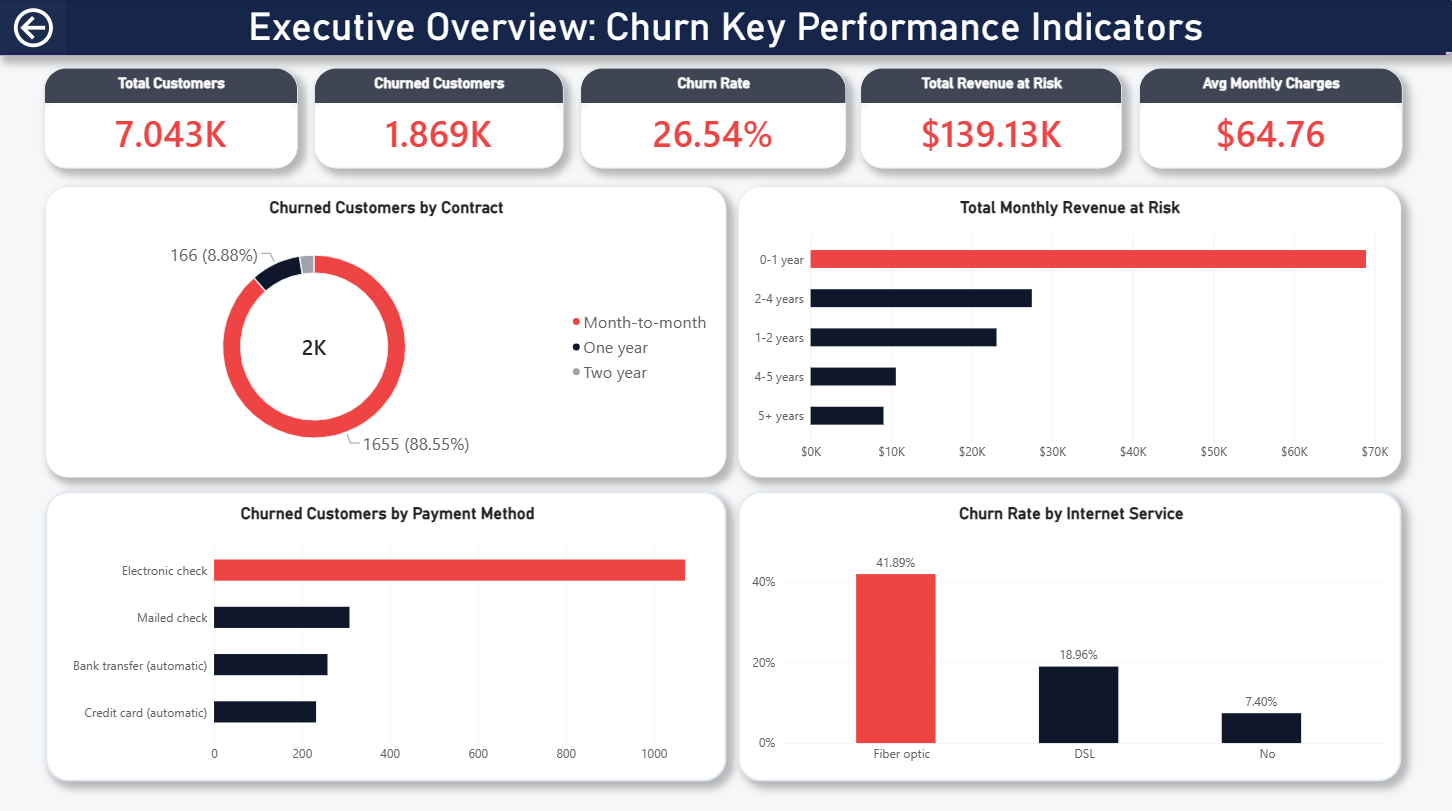

This screenshot's page, from the dashboard's own definition file:
{"tool":"powerbi","page":{"name":"Executive Overview","canvas":[1920,1080],"ordinal":1},"visuals":[{"type":"cardVisual","title":"Total Customers","fields":{"Data":["Measures Table.Total Customers"]},"box":[61.8,90.8,334.3,132.6],"z":0},{"type":"cardVisual","title":"Churned Customers","fields":{"Data":["Measures Table.Churned Customers"]},"box":[417.9,90.8,328.8,132.6],"z":1000},{"type":"cardVisual","title":"Churn Rate","fields":{"Data":["Measures Table.Churn Rate"]},"box":[768.5,90.8,350.6,132.6],"z":2000},{"type":"cardVisual","title":"Total Revenue at Risk","fields":{"Data":["Measures Table.Total MR at risk"]},"box":[1137.3,90.8,345.2,132.6],"z":3000},{"type":"donutChart","title":"Churned Customers by Contract","fields":{"Category":["public executive_churn_summary.contract"],"Y":["Measures Table.Churned Customers"]},"box":[62.5,248.2,898.2,383.9],"z":4000},{"type":"textbox","title":"Executive Overview: Churn Key Performance Indicators","box":[0,0,1919.7,75],"z":4500},{"type":"actionButton","box":[0,0,91.1,75],"z":5000},{"type":"clusteredBarChart","title":"Total Monthly Revenue at Risk","fields":{"Category":["public executive_churn_summary.tenure_bins_cohort"],"Y":["Measures Table.Total MR at risk"]},"box":[976.8,248.2,875,383.9],"z":6000},{"type":"clusteredBarChart","title":"Churned Customers by Payment Method","fields":{"Category":["public executive_churn_summary.paymentmethod"],"Y":["Measures Table.Churned Customers"]},"box":[62.5,650,898.2,382.1],"z":7000},{"type":"cardVisual","title":"Avg Monthly Charges","fields":{"Data":["Measures Table.Avg Monthly Charges"]},"box":[1506.1,90.8,347,132.6],"z":8000},{"type":"clusteredColumnChart","title":"Churn Rate by Internet Service","fields":{"Category":["public executive_churn_summary.internetservice"],"Y":["Measures Table.Churn Rate"]},"box":[976.8,650,875,382.1],"z":9000}]}

Visuals, with their boxes in screenshot pixels (x1, y1, x2, y2), scaled from the page's 1920x1080 canvas onto the 1452x811 screenshot:
"Total Customers" cardVisual: (left=47, top=68, right=300, bottom=168)
"Churned Customers" cardVisual: (left=316, top=68, right=565, bottom=168)
"Churn Rate" cardVisual: (left=581, top=68, right=846, bottom=168)
"Total Revenue at Risk" cardVisual: (left=860, top=68, right=1121, bottom=168)
"Churned Customers by Contract" donutChart: (left=47, top=186, right=727, bottom=475)
"Executive Overview: Churn Key Performance Indicators" textbox: (left=0, top=0, right=1451, bottom=56)
actionButton: (left=0, top=0, right=69, bottom=56)
"Total Monthly Revenue at Risk" clusteredBarChart: (left=739, top=186, right=1400, bottom=475)
"Churned Customers by Payment Method" clusteredBarChart: (left=47, top=488, right=727, bottom=775)
"Avg Monthly Charges" cardVisual: (left=1139, top=68, right=1401, bottom=168)
"Churn Rate by Internet Service" clusteredColumnChart: (left=739, top=488, right=1400, bottom=775)
